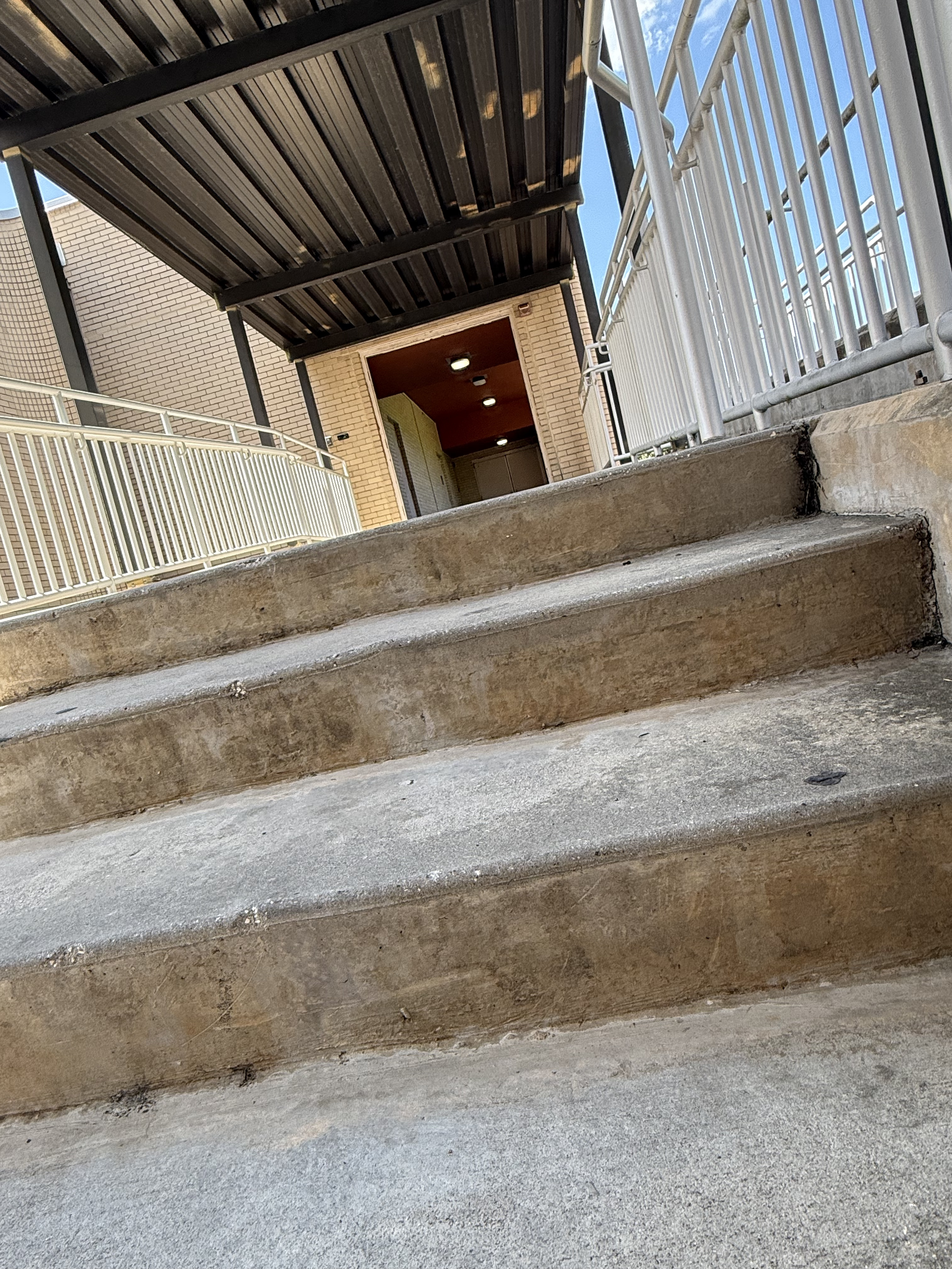stairs: (1, 425, 952, 1120)
